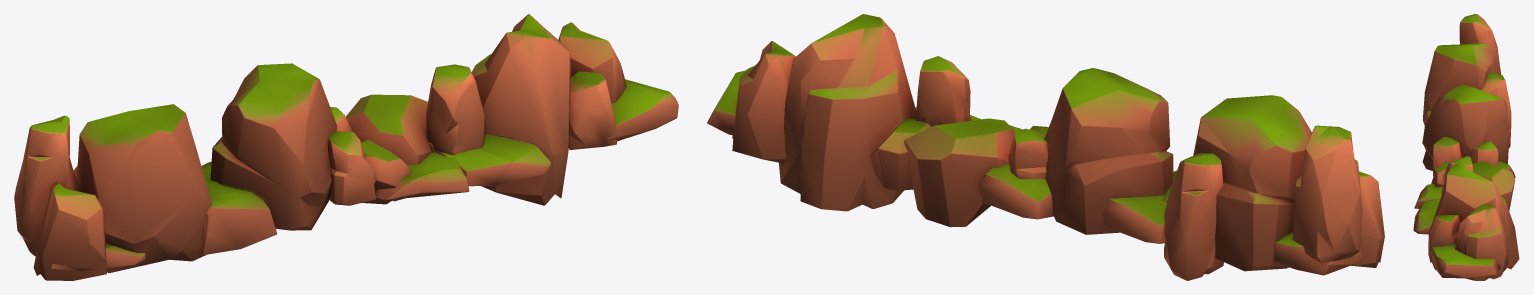
File: WallRocks_01.fbx
The picture shows the model from 3 angles, left to right: view 1: azimuth 30°, elevation 25°; view 2: azimuth 150°, elevation 25°; view 3: azimuth 270°, elevation 25°; orthographic projection. The views are drawn at different scales.
Parts seen in each view (by area): view 1: RockFountainLight_low.018; view 2: RockFountainLight_low.018; view 3: RockFountainLight_low.018.
Part boxes in pixels (<box>): RockFountainLight_low.018: <box>14,14,678,280</box>; RockFountainLight_low.018: <box>707,14,1384,280</box>; RockFountainLight_low.018: <box>1413,14,1519,280</box>.
Size of the model in its own units: 3143 by 817 by 731.
